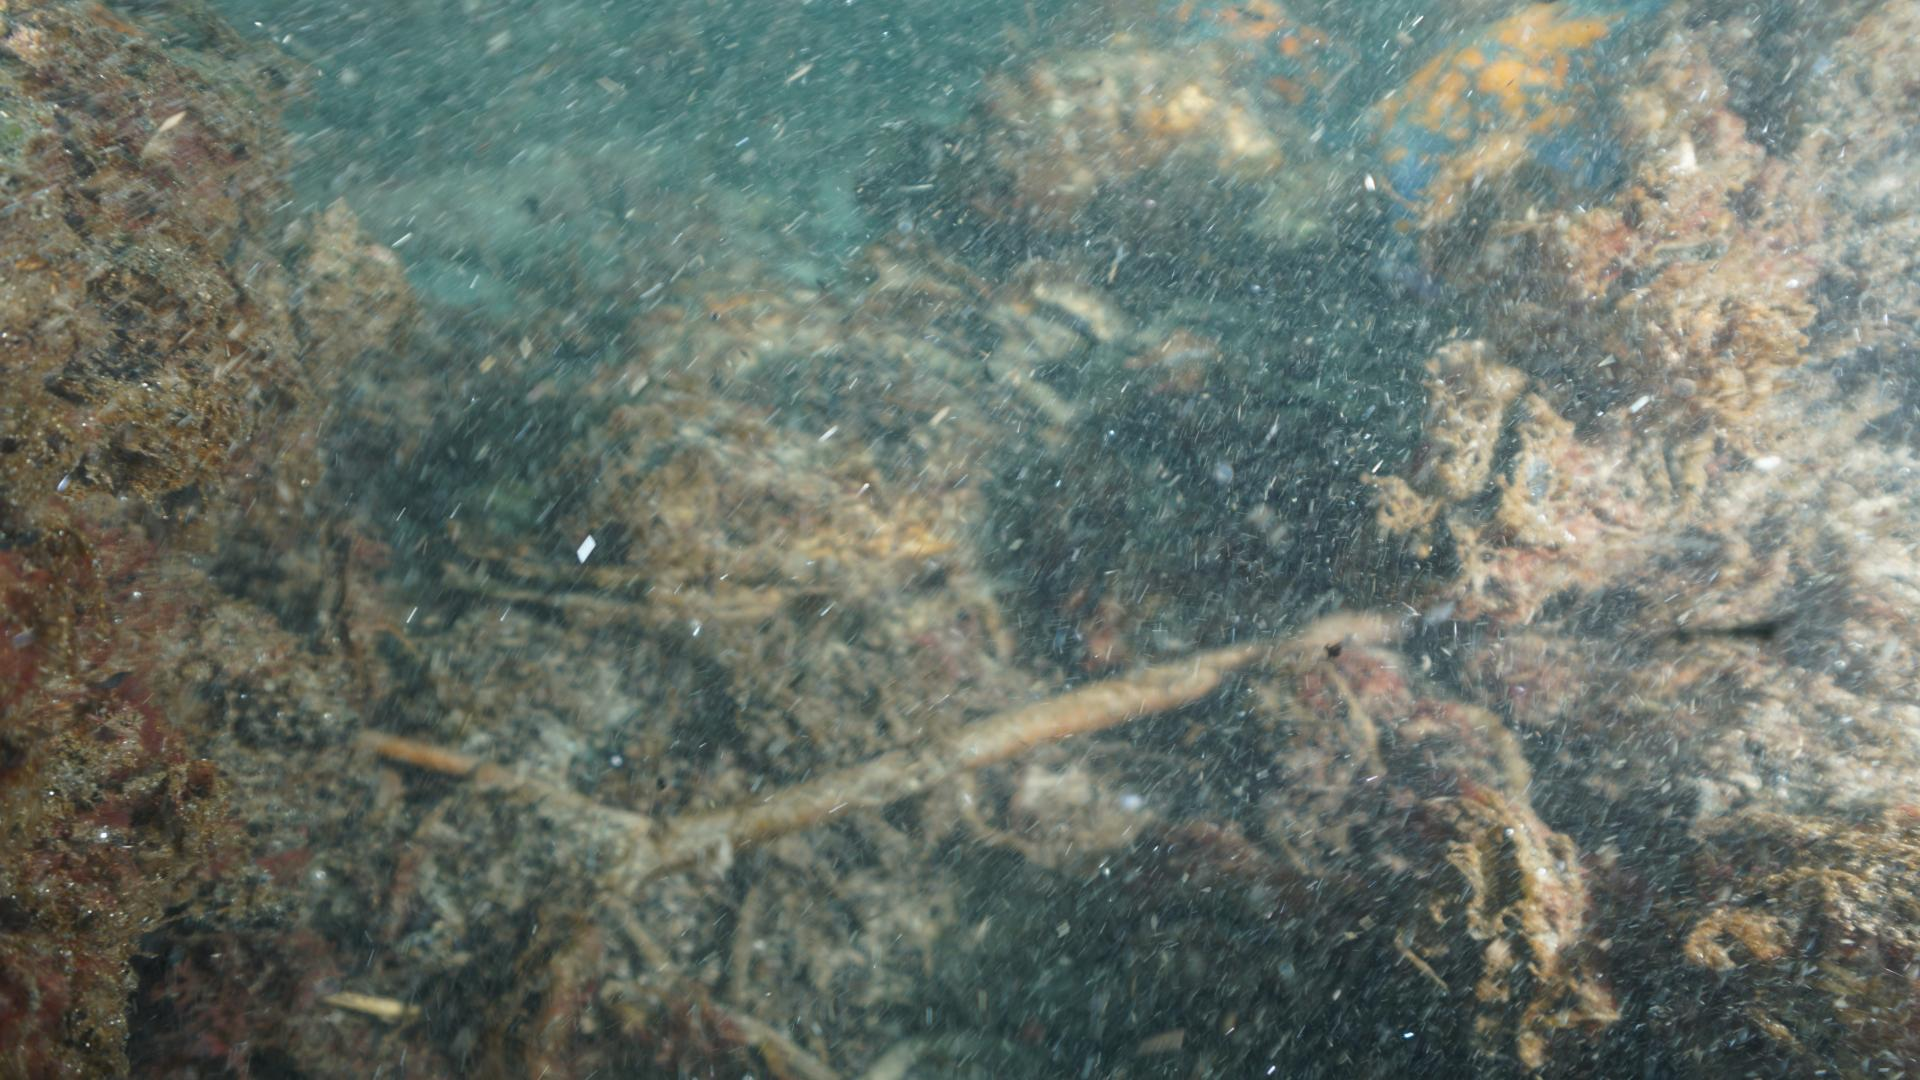wood: (353, 582, 1501, 1080)
